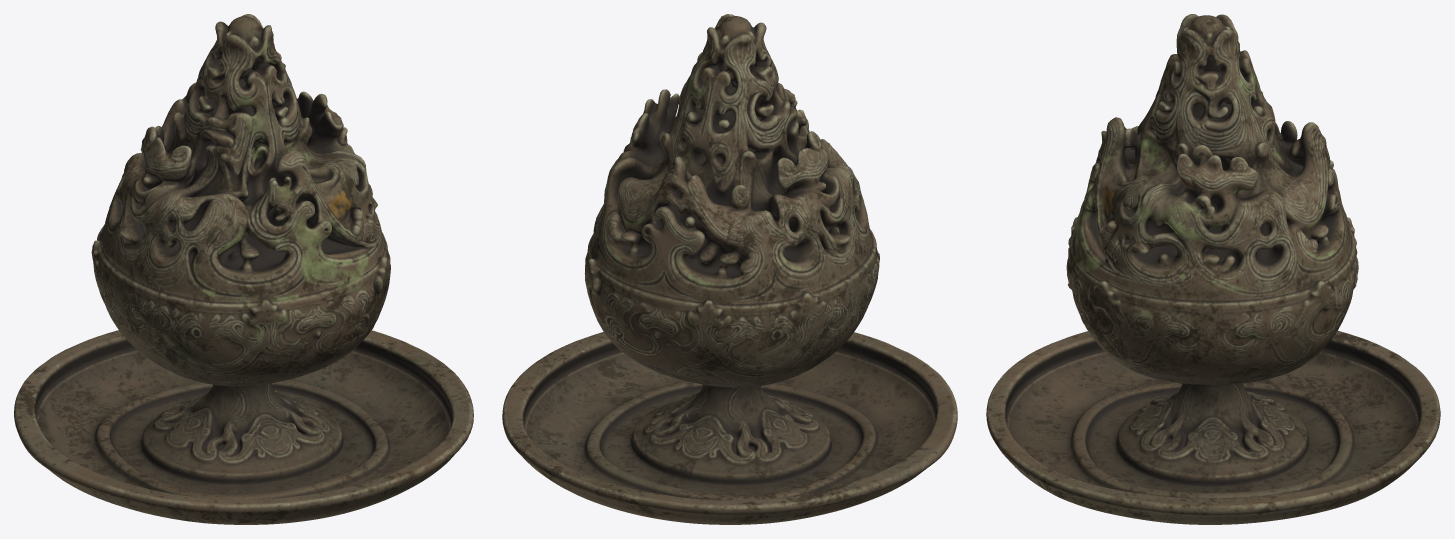
File: 13-han-boshan-censer.glb
3 renders of one model, left to right at view 1: azimuth 30°, elevation 25°; view 2: azimuth 150°, elevation 25°; view 3: azimuth 270°, elevation 25°, orthographic.
Parts seen in each view (by area): view 1: egg_high; view 2: egg_high; view 3: egg_high.
Part boxes in pixels (<box>): egg_high: <box>14,14,473,524</box>; egg_high: <box>502,14,957,524</box>; egg_high: <box>986,14,1440,524</box>.
Bounding box in the file's own units: 35.74 × 37.63 × 35.13.
1 material, 1 textured.
